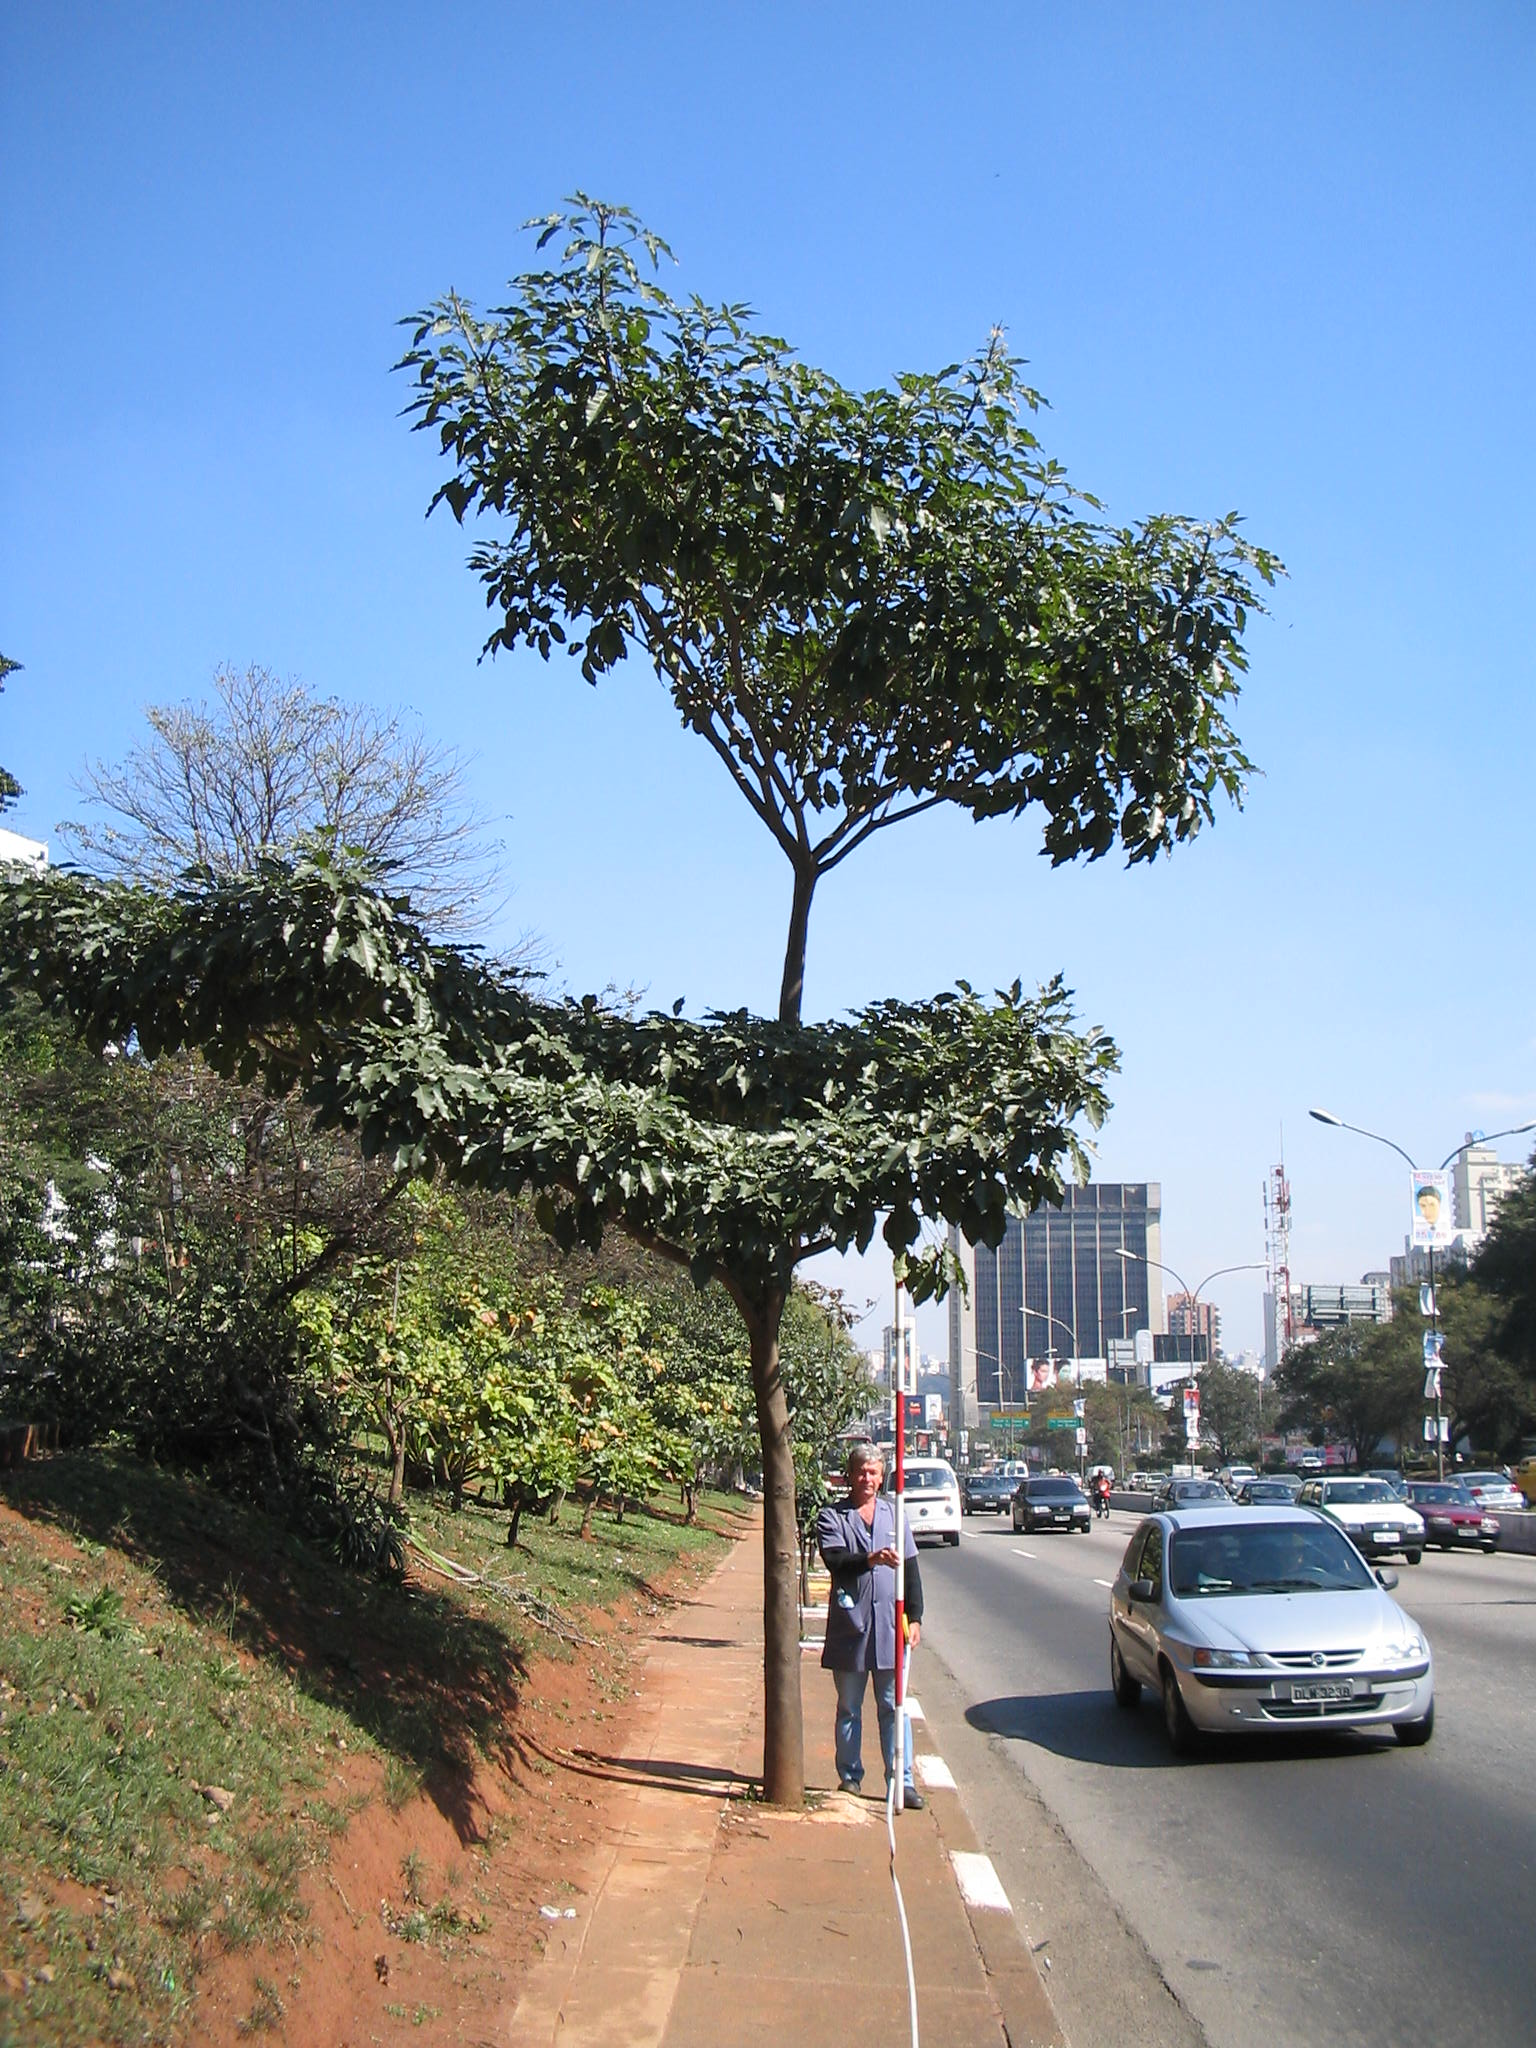crown: (18, 200, 1283, 1292)
stem: (700, 1317, 857, 1808)
stick: (858, 1250, 933, 1813)
tree: (6, 192, 1286, 1813)
